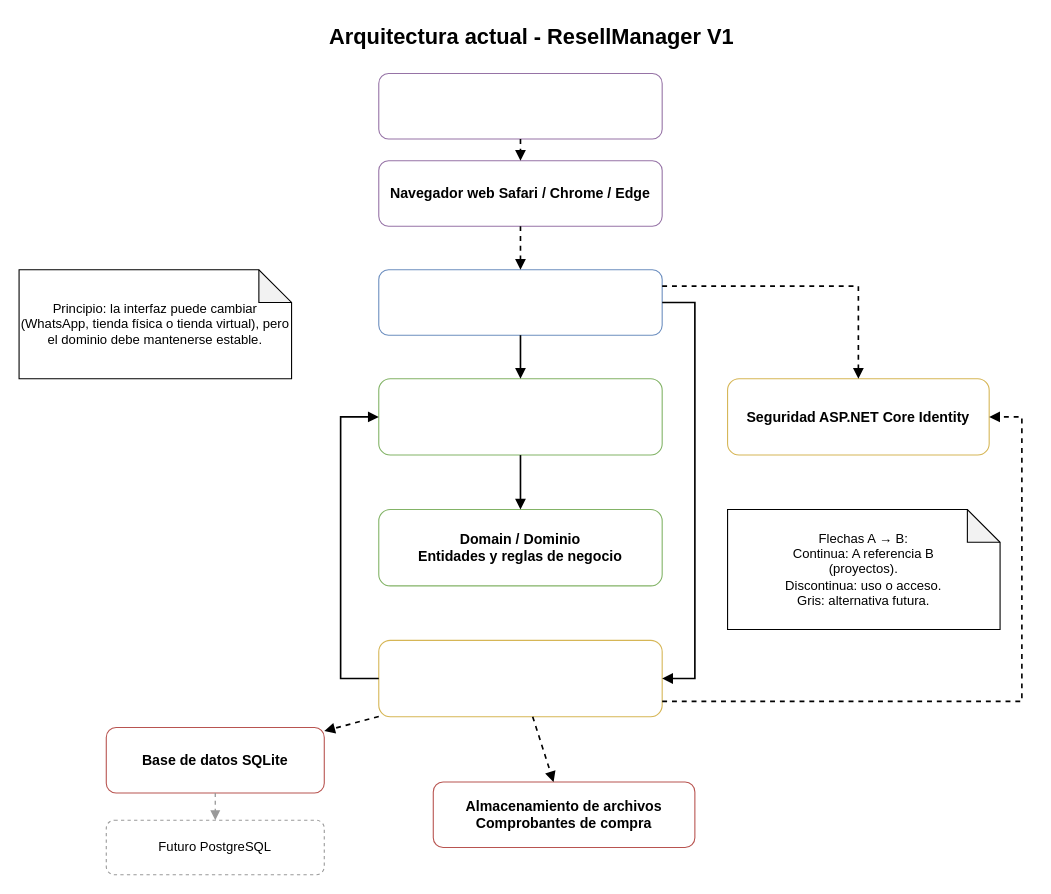
This 1051x894 diagram has some shape labels left out. The box of each missing label's shape, as (x1, y1, x2, y2) in pixels:
Application Contratos · DTOs Validaciones compartidas: (378, 378, 662, 455)
Dispositivos PC / Android / iPhone: (378, 72, 662, 139)
Infrastructure Servicios · EF Core Persistencia · Almacenamiento: (378, 639, 662, 717)
Web / Presentación Blazor Web App: (378, 269, 662, 335)
